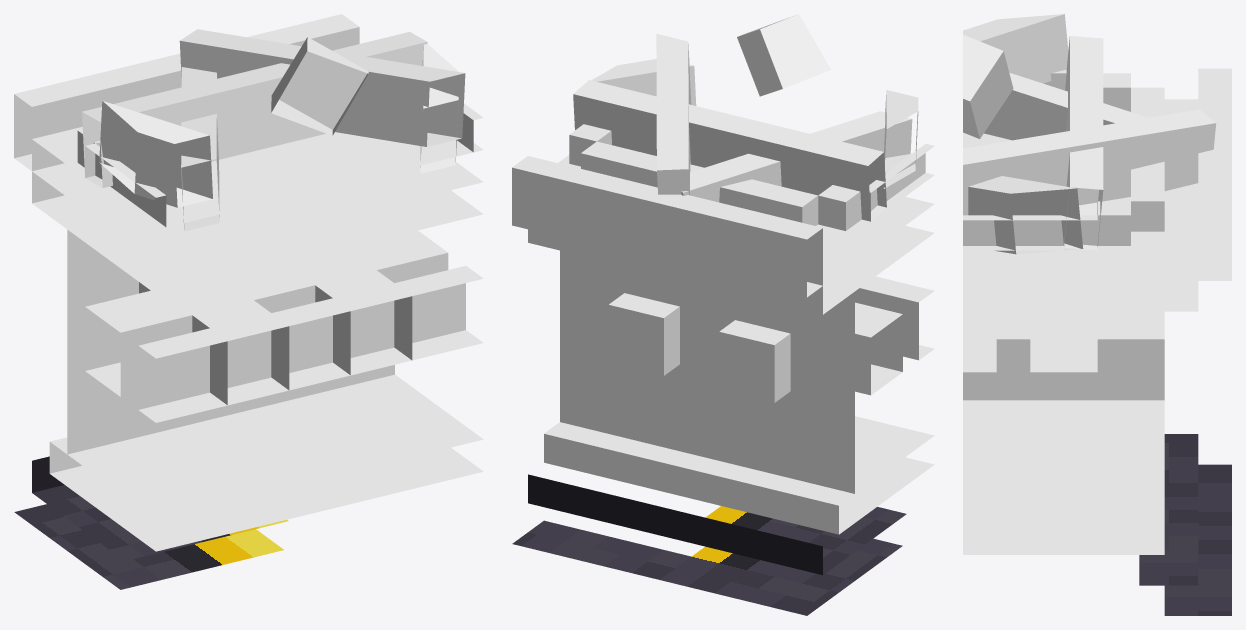
File: forbidden_hex_source_altar_imported_formed_1.obj
3 views of the same model, side by side, from view 1: azimuth 30°, elevation 25°; view 2: azimuth 150°, elevation 25°; view 3: azimuth 270°, elevation 25° (orthographic). The views are drawn at different scales.
Visible parts, largest first — view 1: altar; view 2: altar; view 3: altar.
Boxes of the visible parts, bbox=[...] form: altar: bbox=[14, 14, 483, 589]; altar: bbox=[512, 14, 934, 615]; altar: bbox=[963, 14, 1231, 615].
Bounding box in the file's own units: 1 × 1.54 × 0.75.
